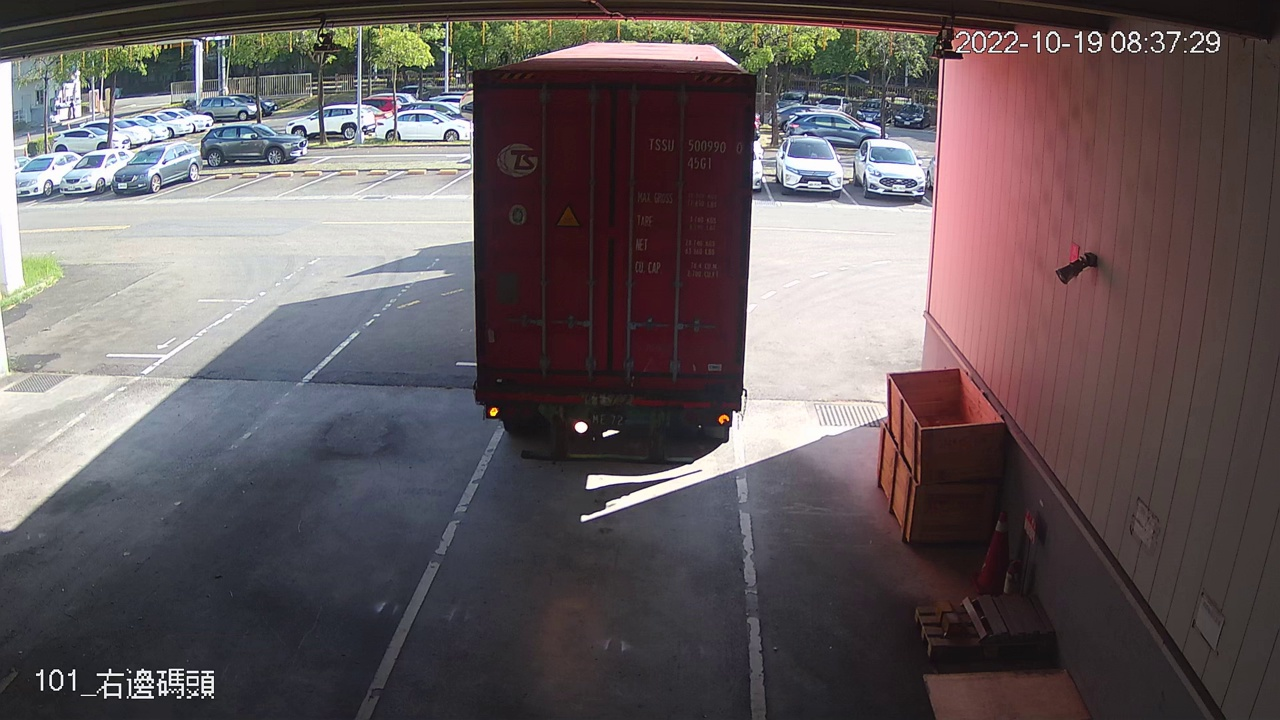container: (643, 131, 749, 173)
